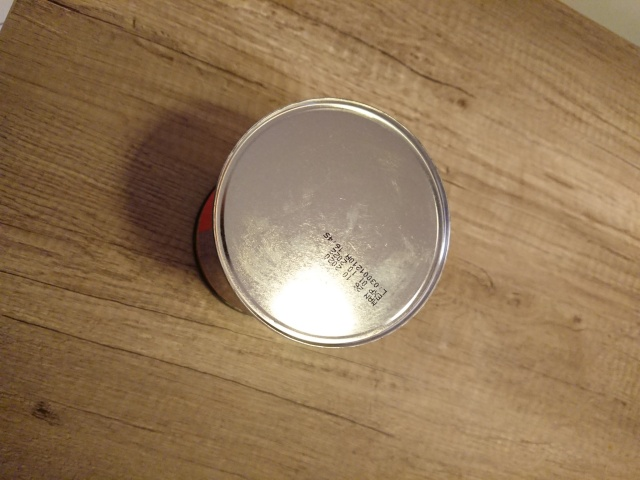Nescafe Classic 225g: (187, 92, 455, 353)
